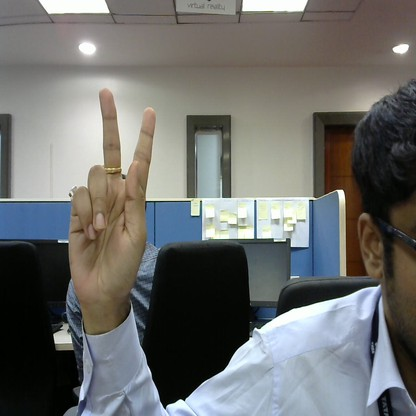k: (65, 85, 157, 317)
